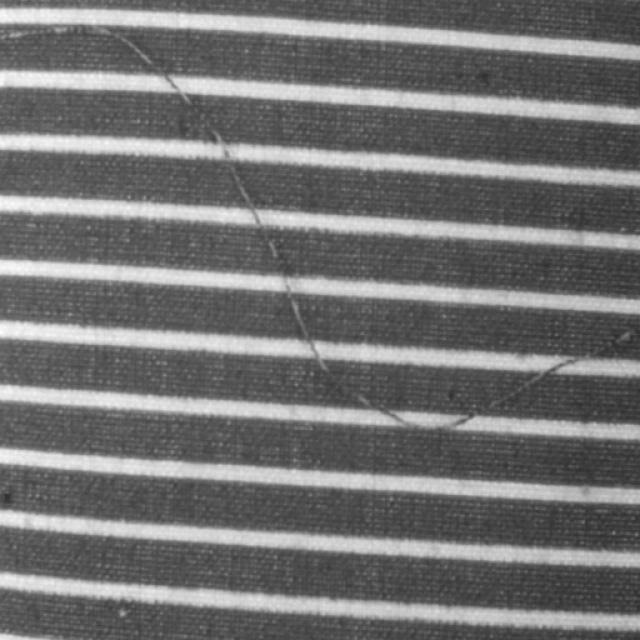Foreign-Body-Defect: (3, 18, 639, 444)
